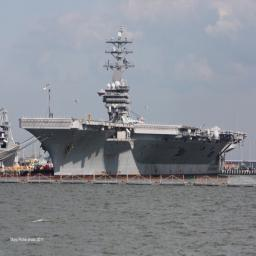Portanaves: (19, 24, 250, 181)
